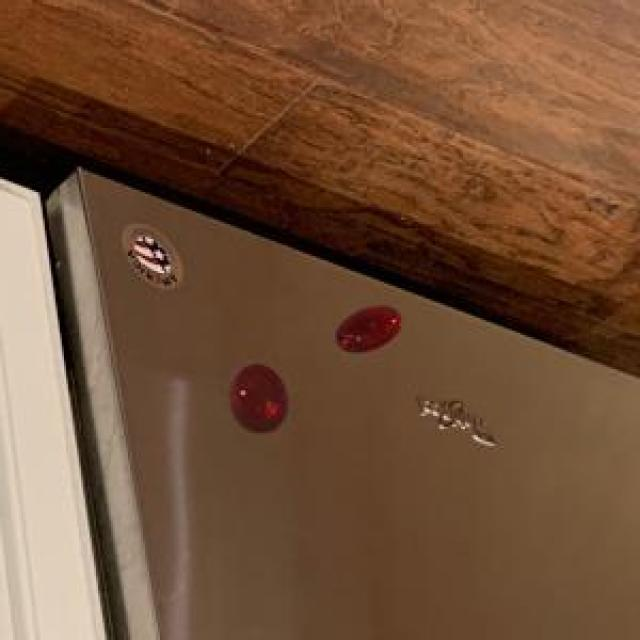Medicol: (221, 352, 298, 439), (330, 292, 413, 365)
